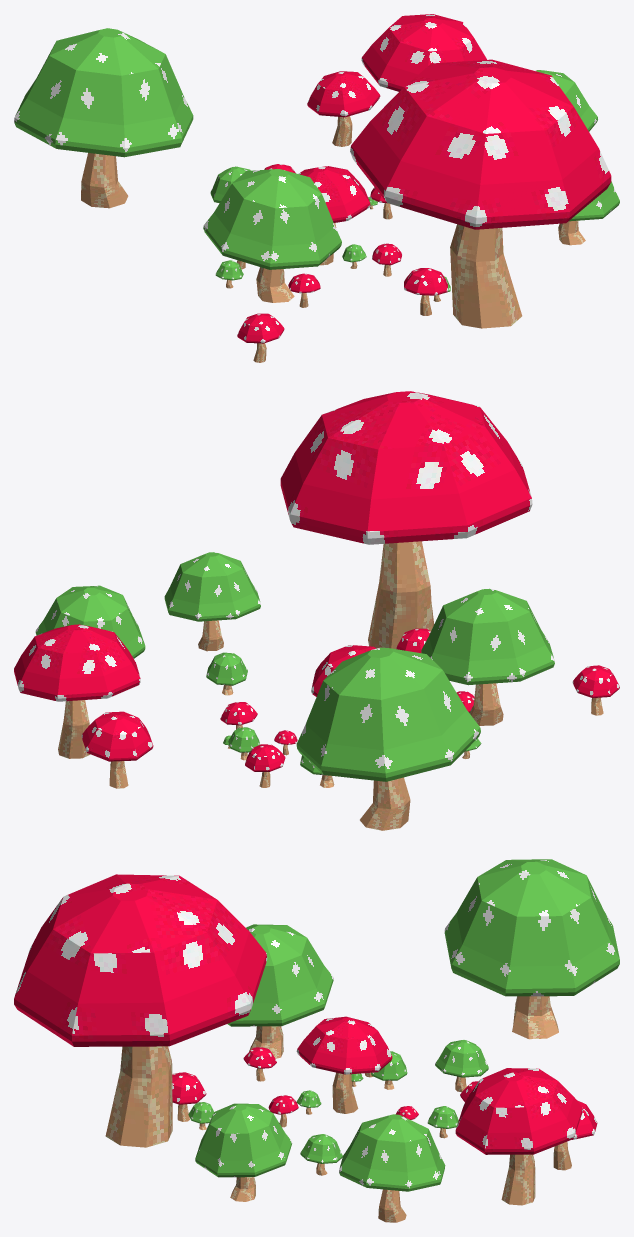
File: Pilz01.fbx
The picture shows the model from 3 angles, top to bottom: view 1: azimuth 30°, elevation 25°; view 2: azimuth 150°, elevation 25°; view 3: azimuth 270°, elevation 25°; orthographic projection.
Visible parts, largest first — view 1: Circle.010; view 2: Circle.010; view 3: Circle.010.
Boxes of the visible parts, left/top/right/bottom form: Circle.010: left=14, top=14, right=619, bottom=362; Circle.010: left=14, top=391, right=619, bottom=830; Circle.010: left=14, top=859, right=619, bottom=1222.
Bounding box in the file's own units: 31005 × 15146 × 33422.
